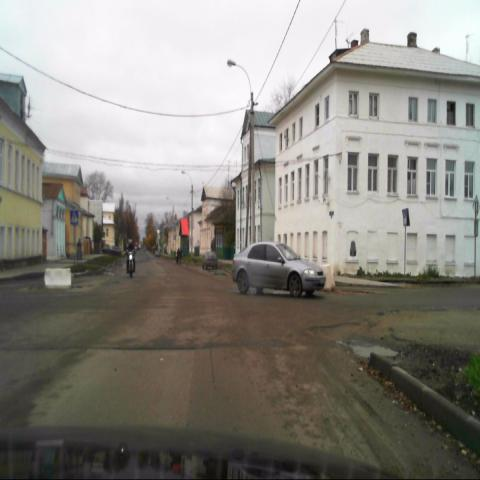5_19_1: (70, 210, 79, 226)
